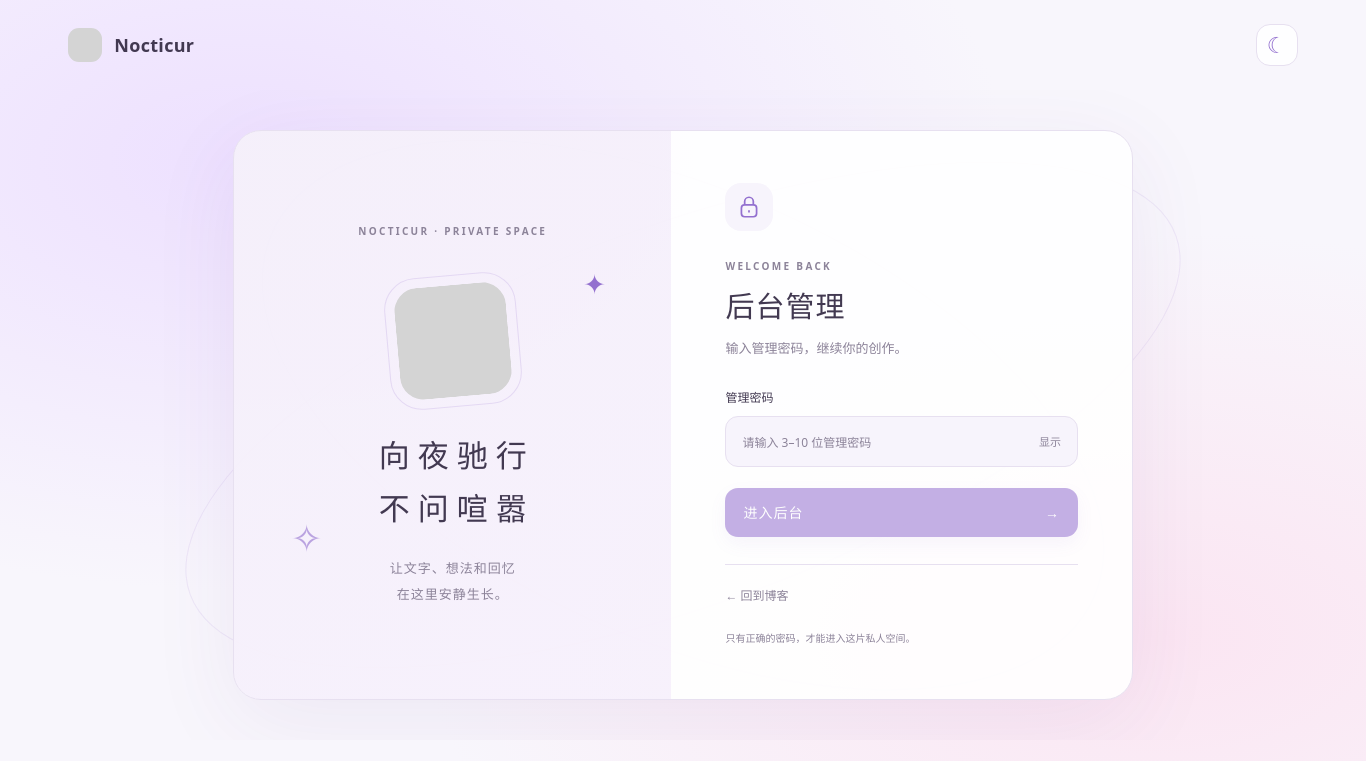
Test: a wrong password stays on the login form with a clear error
This screenshot has width=1366, height=761.
In the password field labelled "管理密码": [902, 442] box [726,416,1078,467], type "wrongPass"
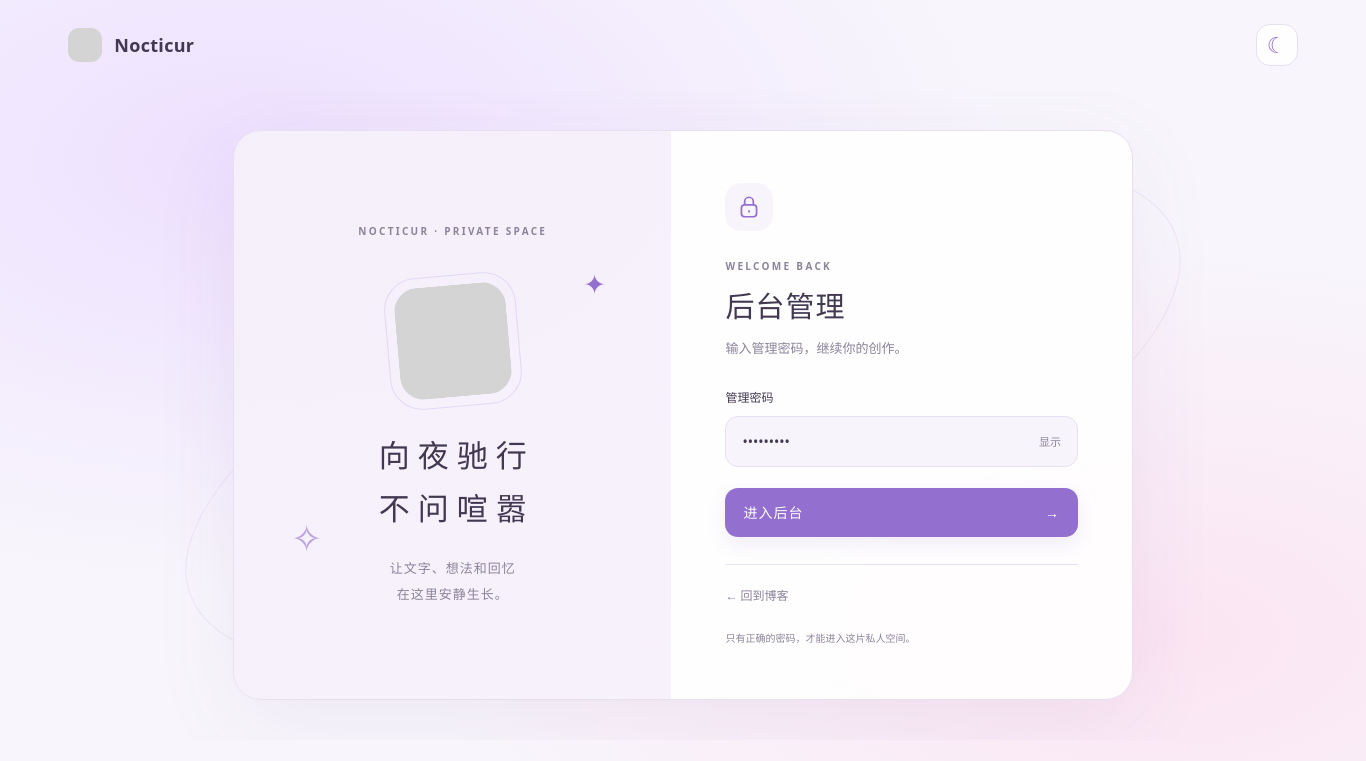
Submit the form labelled "管理密码", box [726,388,1078,537]
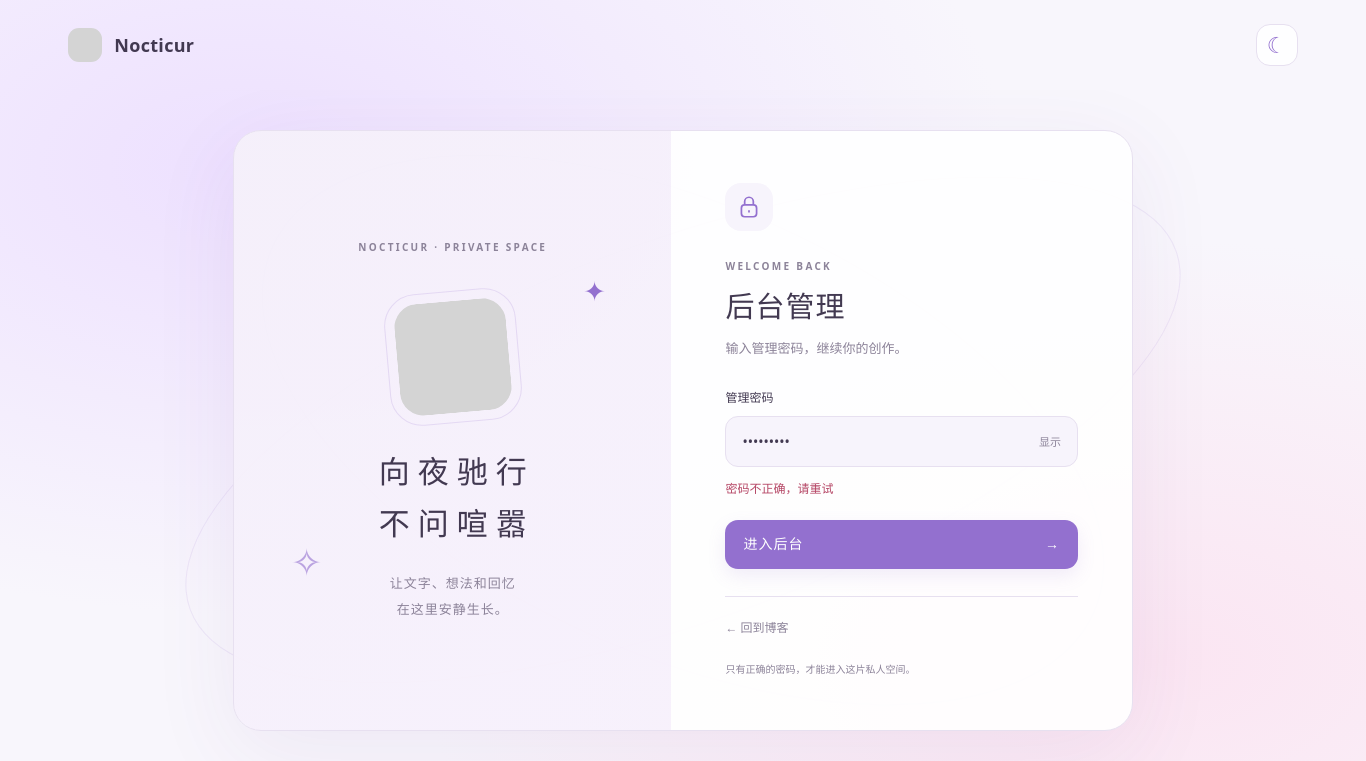
Expected: the message shows "密码不正确", [726,480,834,497]
